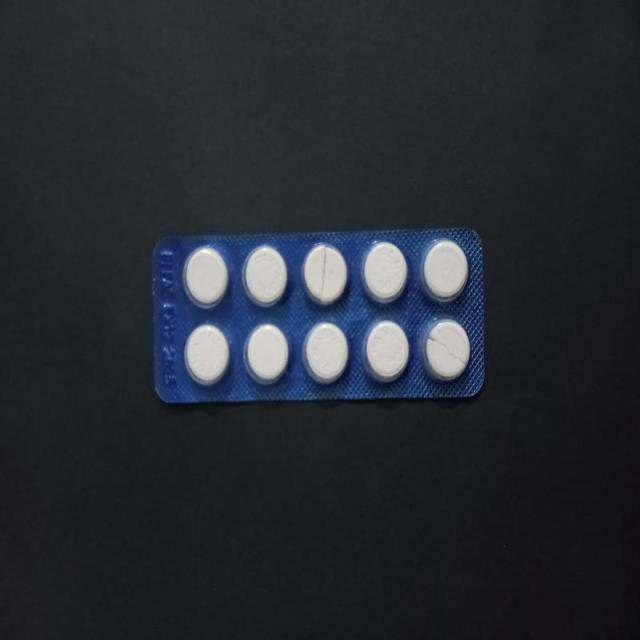defect: (421, 317, 472, 382), (301, 242, 349, 308)
